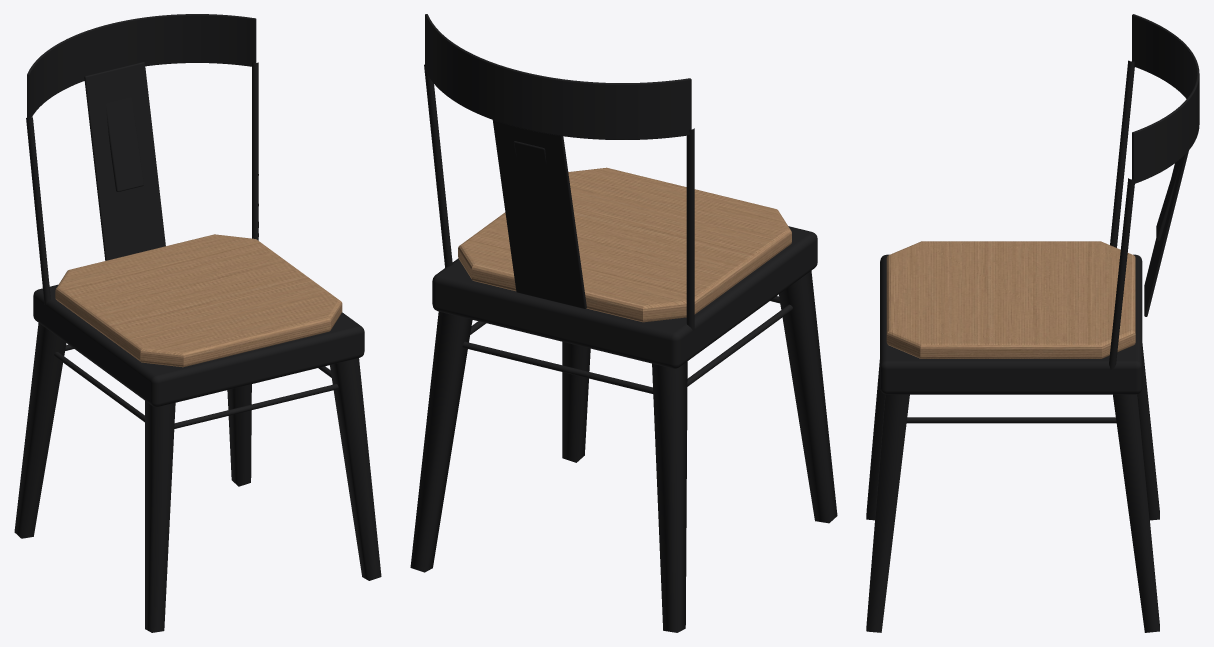
File: chair-mackay.glb
3 views of the same model, side by side, from view 1: azimuth 30°, elevation 25°; view 2: azimuth 150°, elevation 25°; view 3: azimuth 270°, elevation 25° (orthographic). The views are drawn at different scales.
Bounding box in the file's own units: 0.4249 × 0.8221 × 0.4953.
2 materials, 1 textured.
